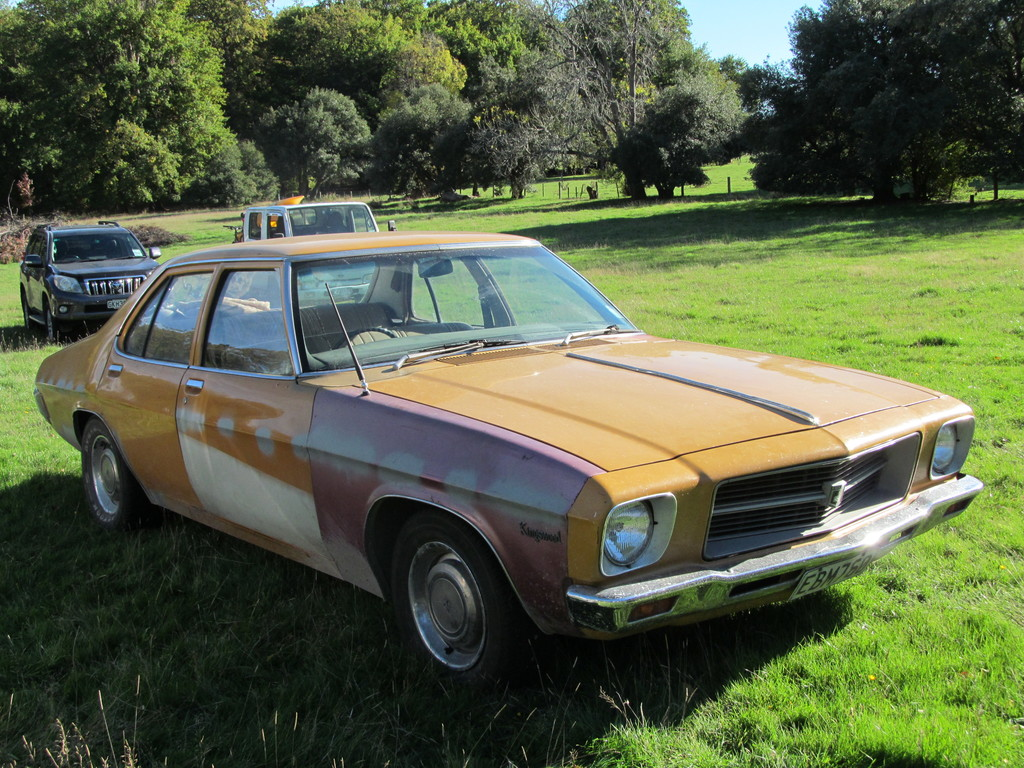Car: (9, 227, 977, 693), (16, 215, 170, 338)
